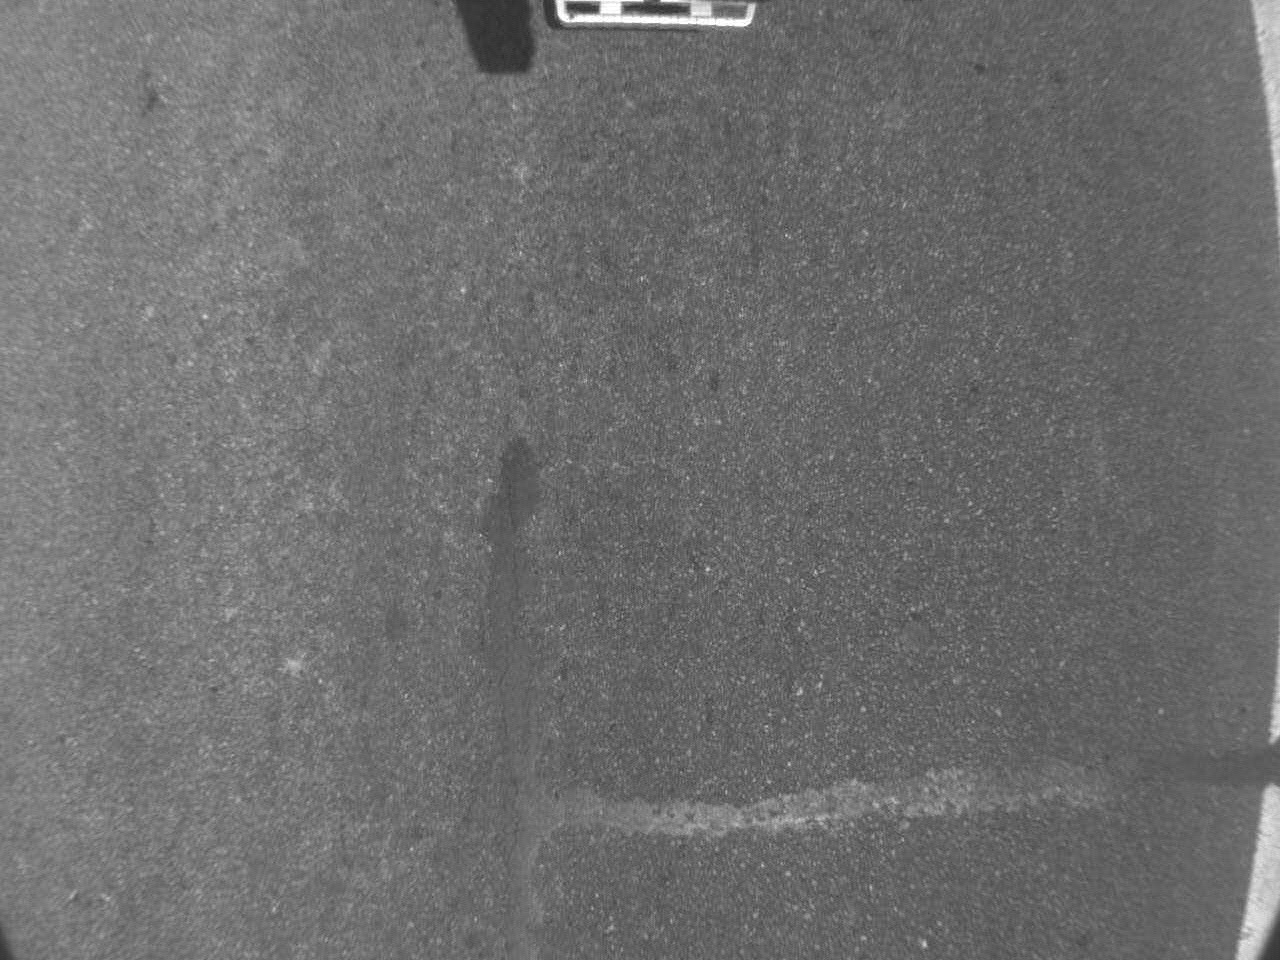sealed: (550, 733, 1278, 847)
